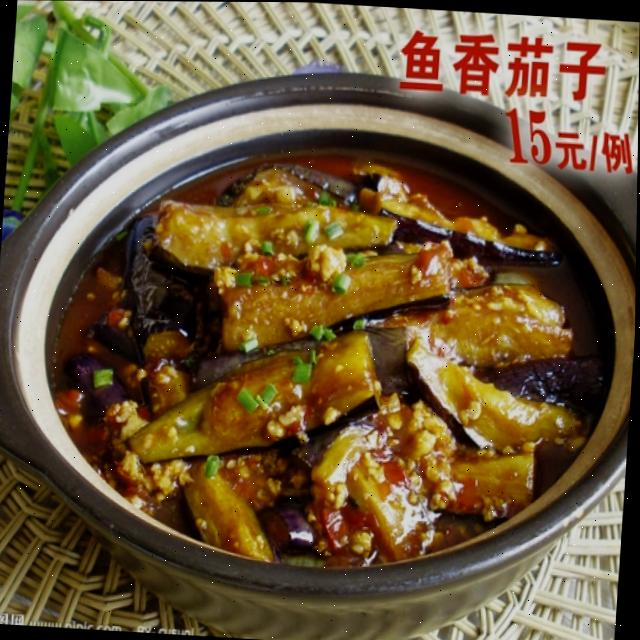鸡蛋料理: (0, 33, 640, 620)
